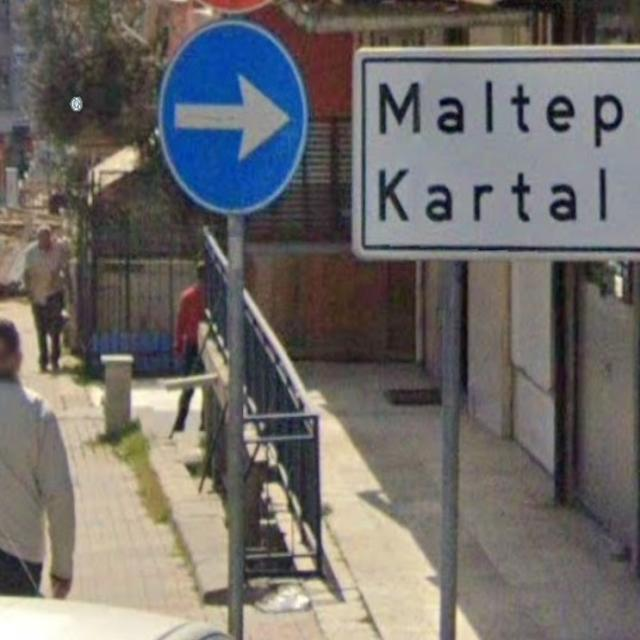Turn Right: (157, 30, 310, 227)
